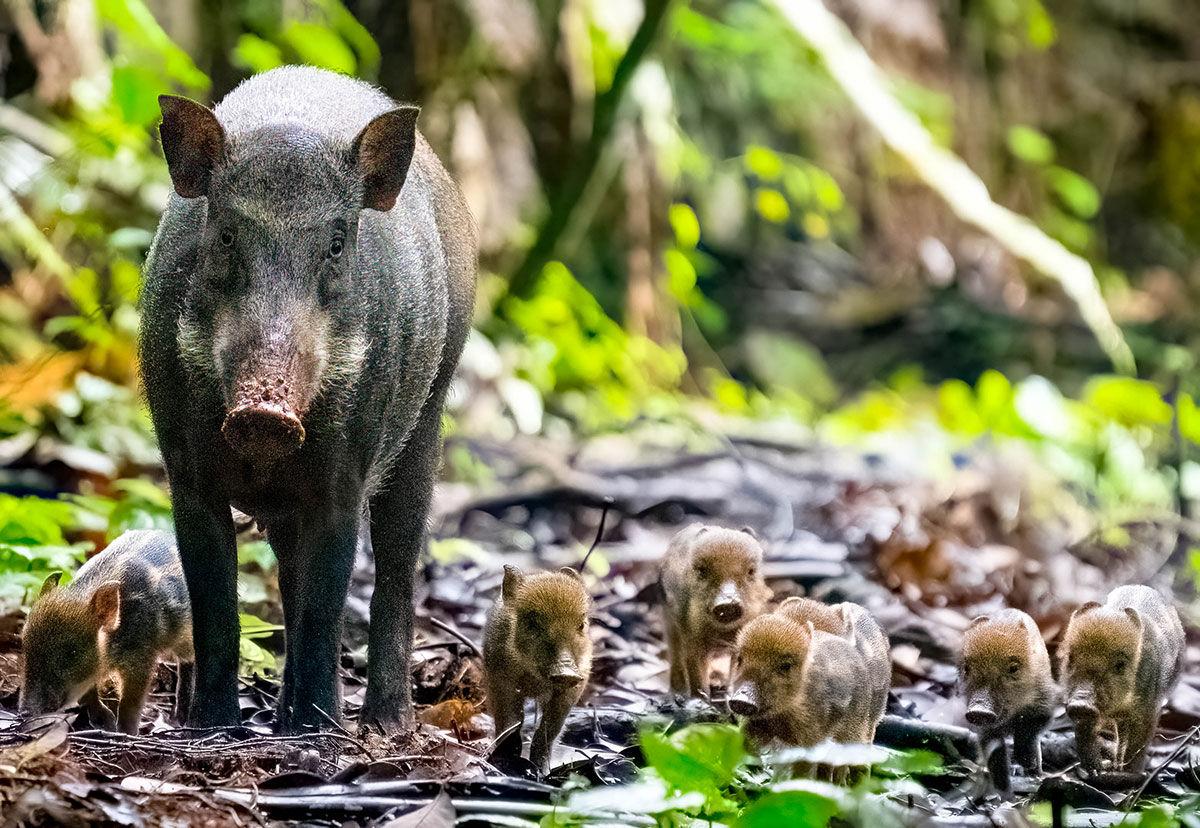boar: (118, 41, 488, 753), (9, 508, 199, 746), (469, 552, 598, 788)
